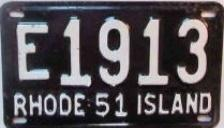1: (58, 16, 93, 88), (137, 16, 171, 88)
3: (174, 16, 211, 85)
9: (96, 16, 133, 88)
E: (15, 20, 54, 82)
